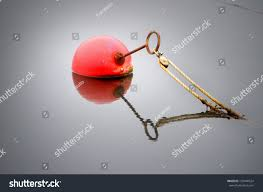buoy: (71, 35, 133, 77)
